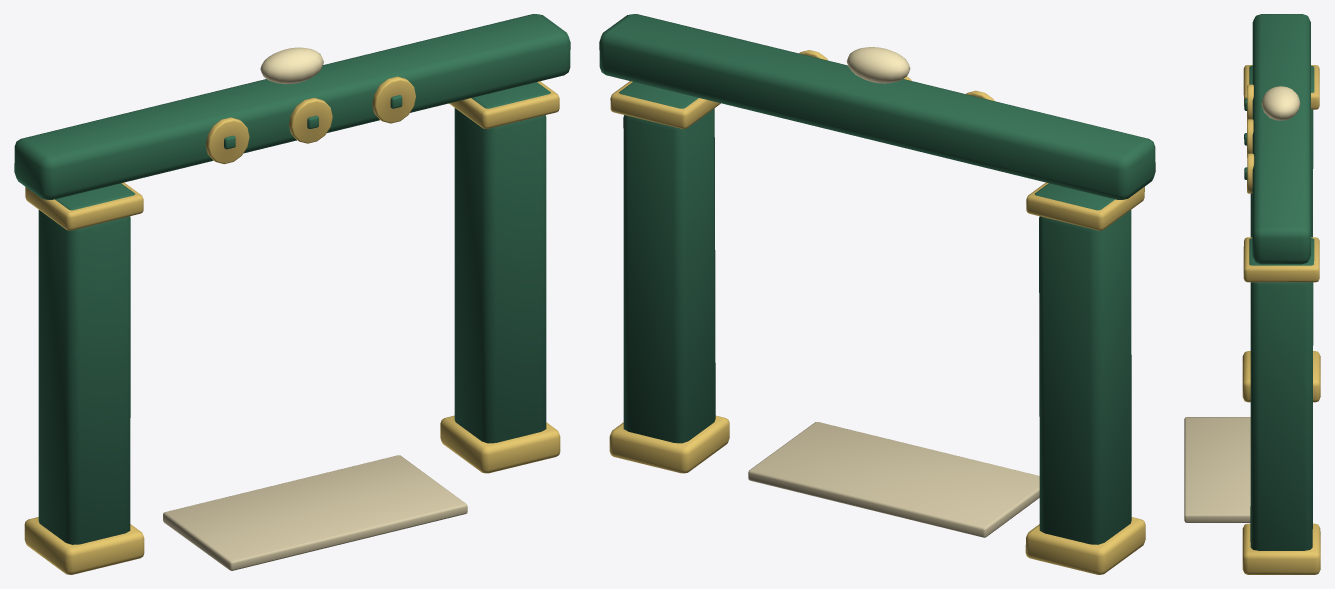
3 renders of one model, left to right at view 1: azimuth 30°, elevation 25°; view 2: azimuth 150°, elevation 25°; view 3: azimuth 270°, elevation 25°, orthographic. The views are drawn at different scales.
Visible parts, largest first — view 1: gate_a9627f4a; view 2: gate_a9627f4a; view 3: gate_a9627f4a.
Part boxes in pixels (x1,y1,x2,y2): gate_a9627f4a: (14, 14, 570, 574); gate_a9627f4a: (599, 14, 1155, 574); gate_a9627f4a: (1184, 14, 1320, 574).
Bounding box in the file's own units: 5.35 × 4.34 × 1.4.
